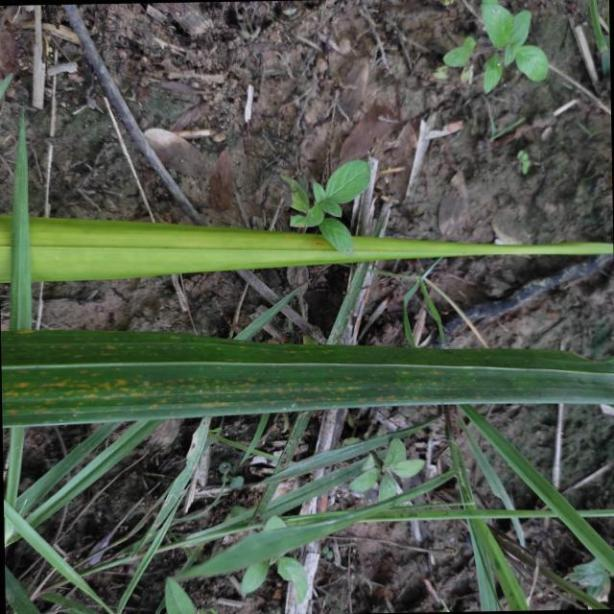nitrogen: (1, 327, 614, 425), (0, 213, 614, 286)
